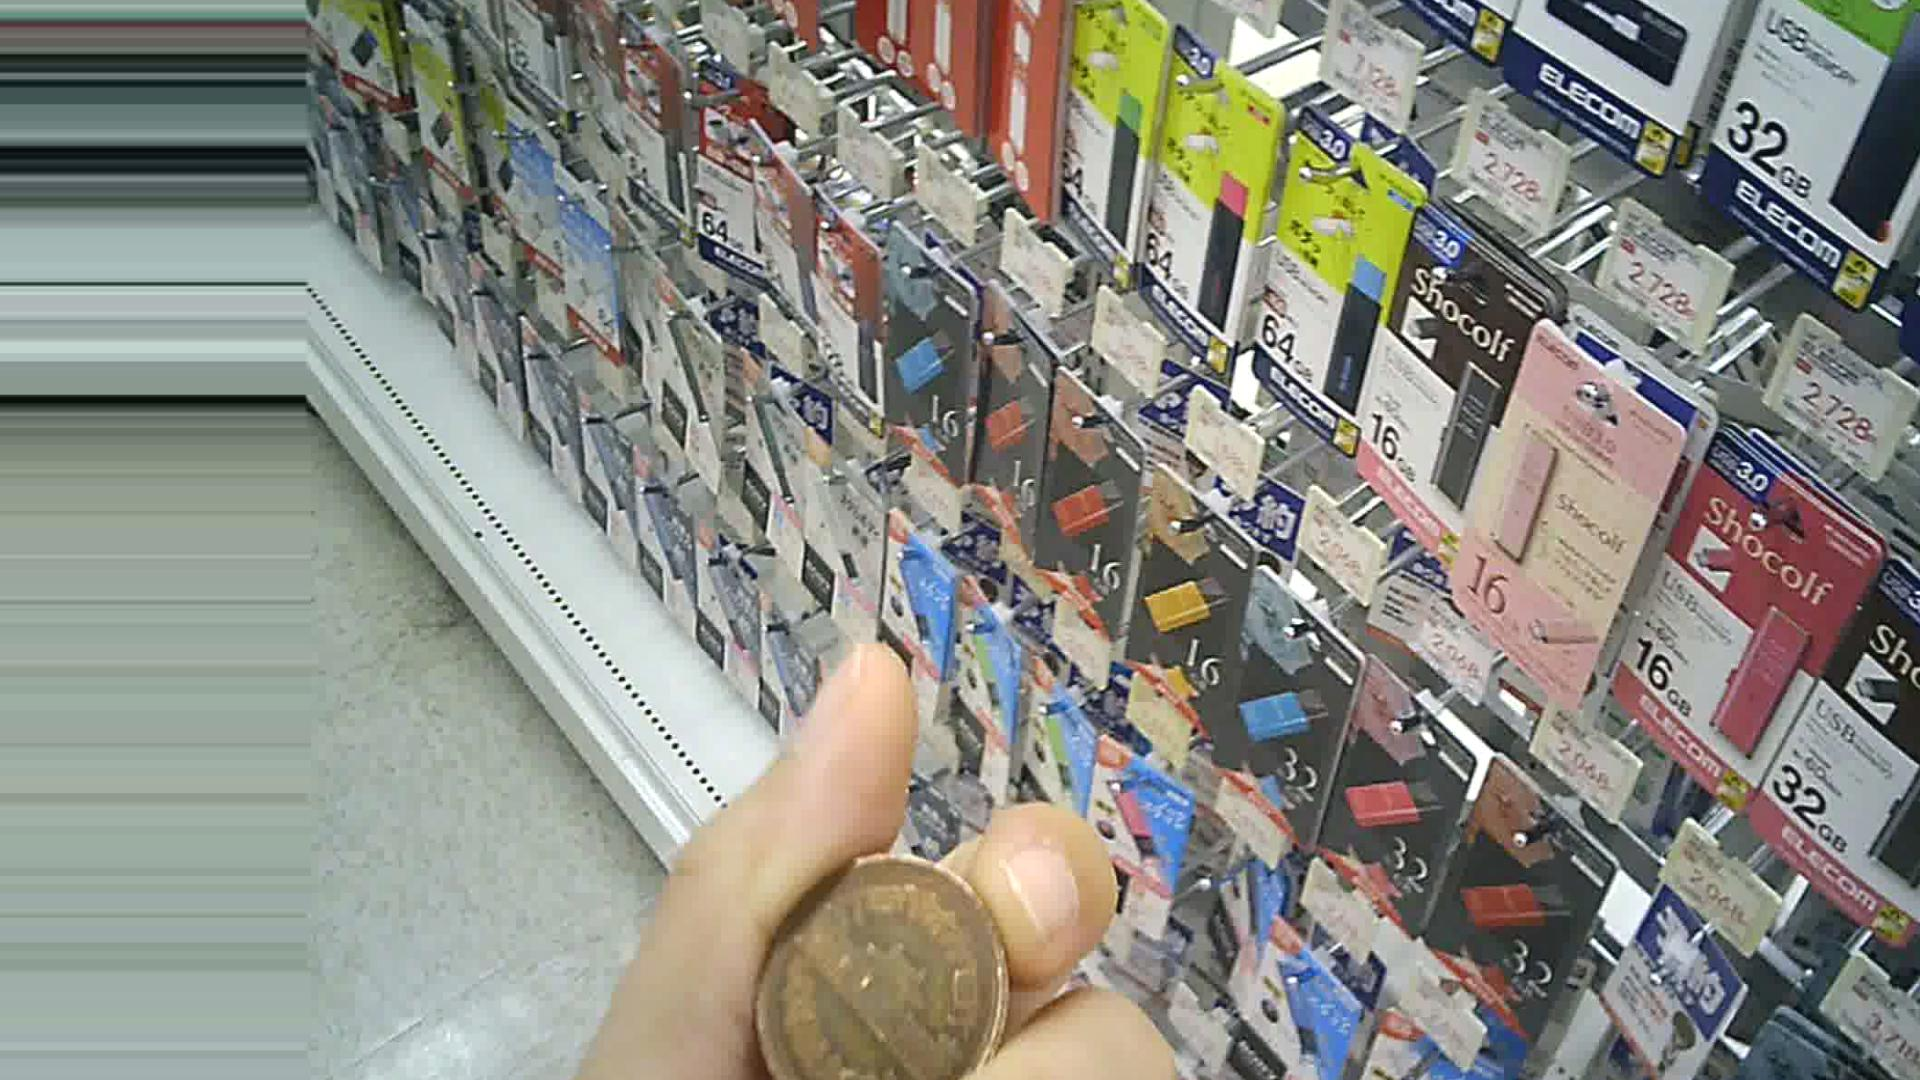10 Yen: (725, 845, 1011, 1069)
